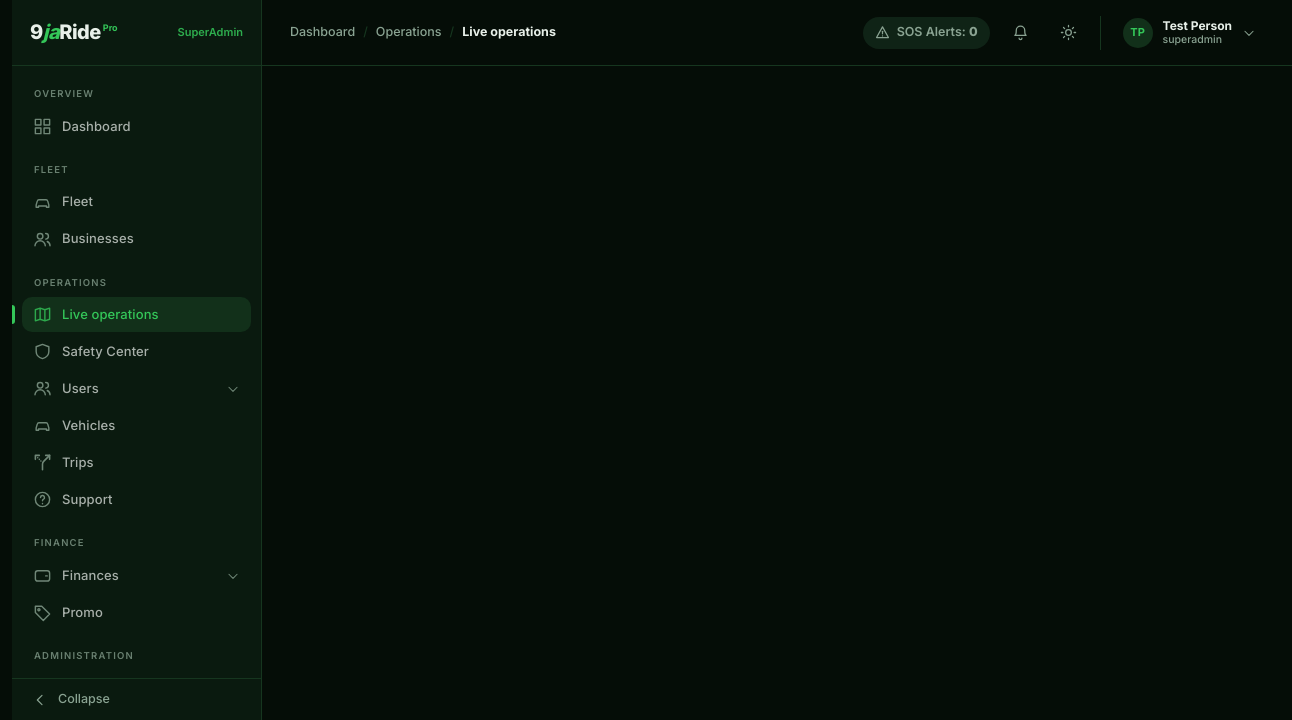
Scenario: sidebar by role › collapses to icons and remembers it
Expected: the text "Test Person" is shown, top-left (1163, 18), bottom-right (1232, 33)
Click the button with aria-label "Collapse sidebar".
click(136, 699)  # box top-left (12, 678), bottom-right (261, 719)
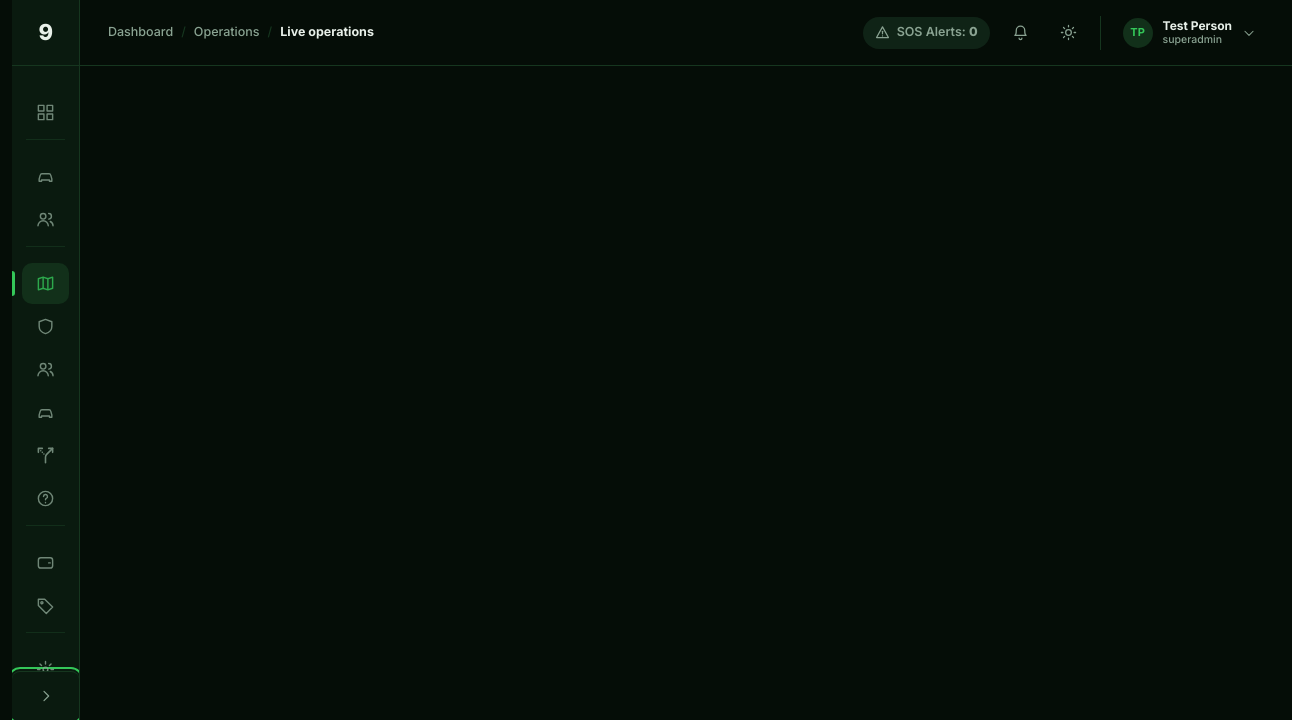
Expected: the button named "Expand sidebar" is shown, top-left (12, 671), bottom-right (79, 719)
